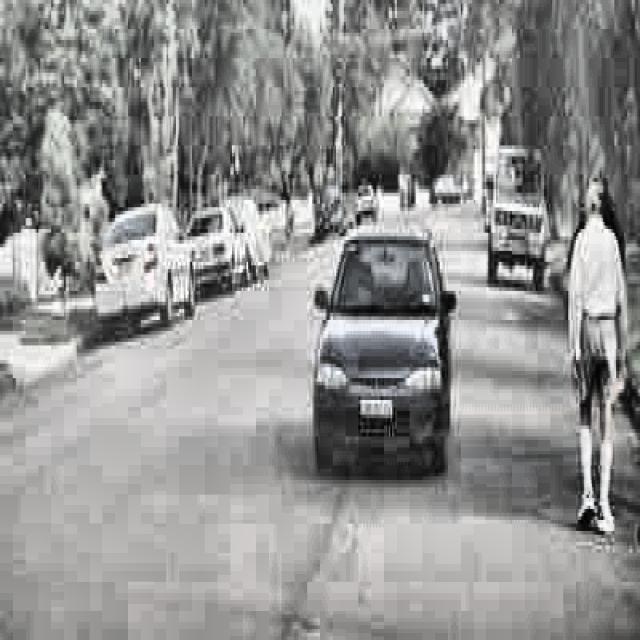license_plate: (358, 395, 396, 425), (114, 257, 137, 282)
